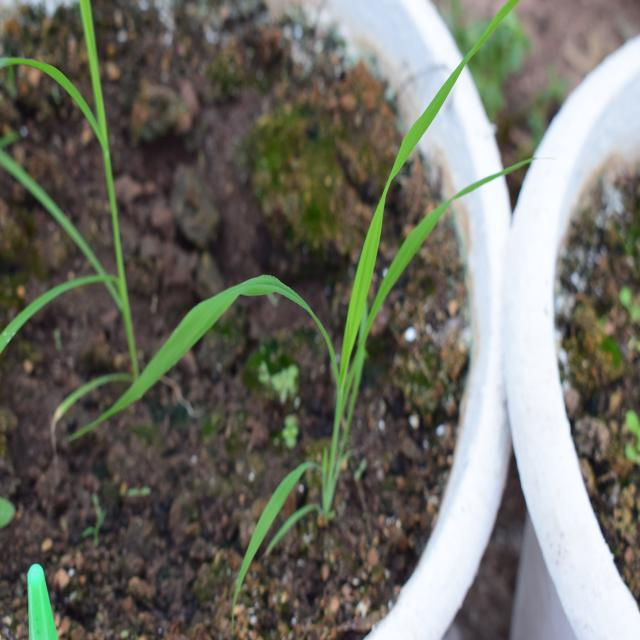barnyard_grass: (127, 48, 520, 498)
